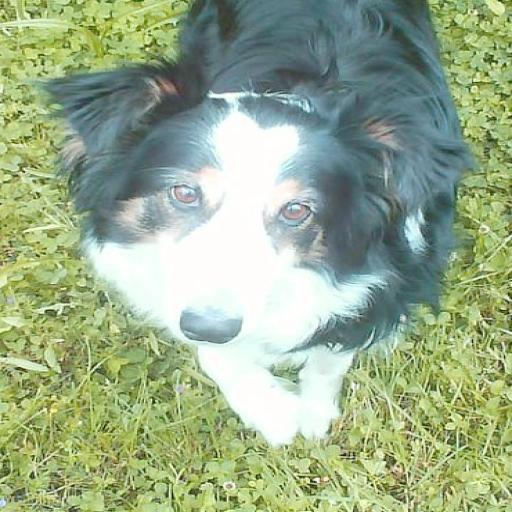dog_face: (22, 69, 453, 370)
